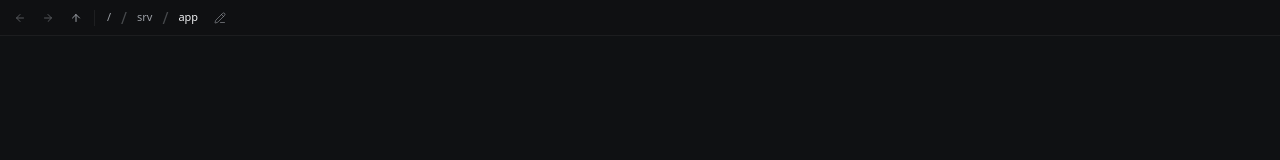
Test: PathBar › offers folder completions and navigates to the chosen one
Later steps or results of the test are not shown.
Click the button named "Edit folder path".
click(220, 18)  # box [208, 6, 232, 30]
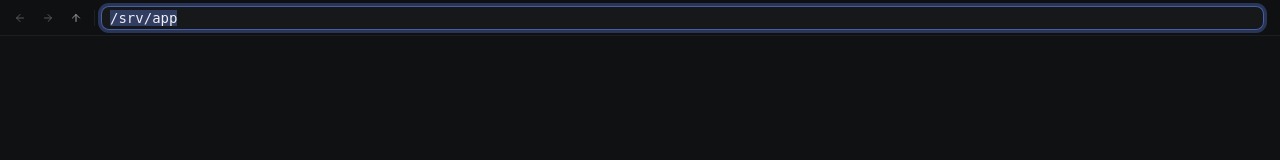
Type "/a" into the dropdown named "Folder path".
click(682, 18); type("/a")  # box [101, 6, 1264, 30]
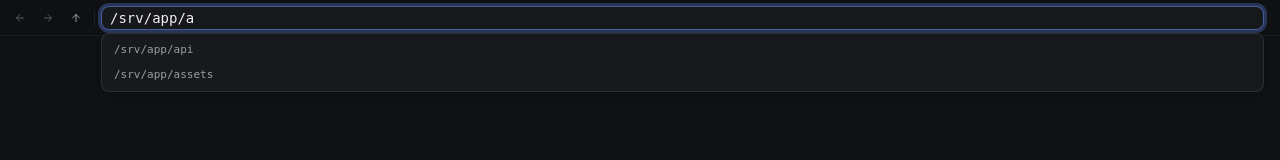
Expected: the option "/srv/app/assets" is shown, [106, 62, 1259, 87]
